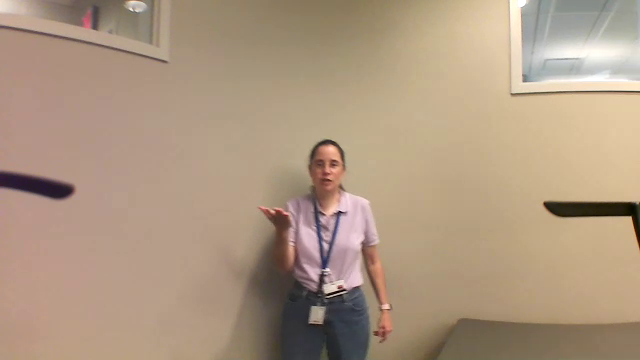land: (247, 193, 303, 237)
